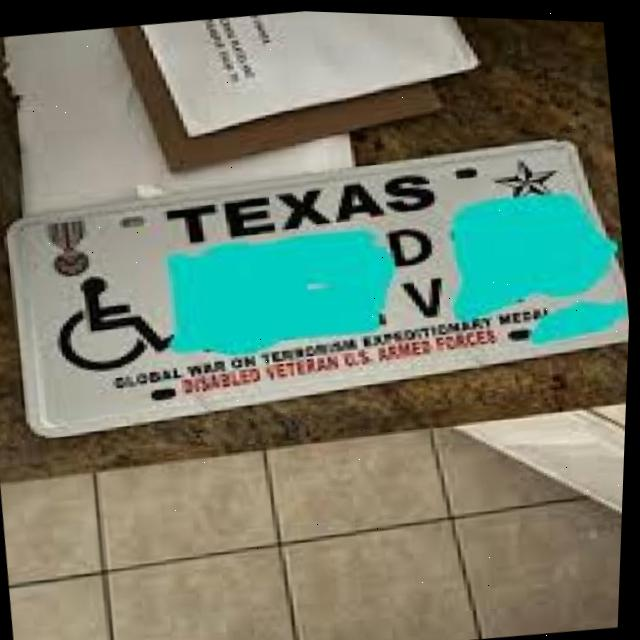symbol_of_access: (48, 262, 181, 377)
